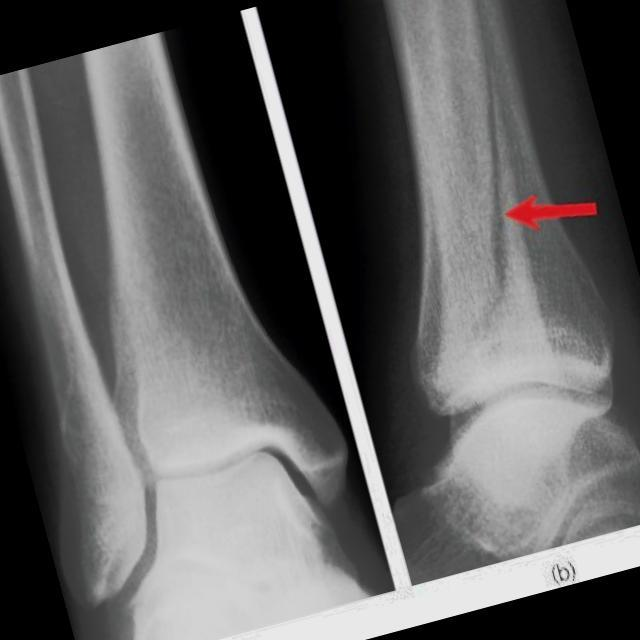HairLine Fracture: (484, 194, 514, 276)
